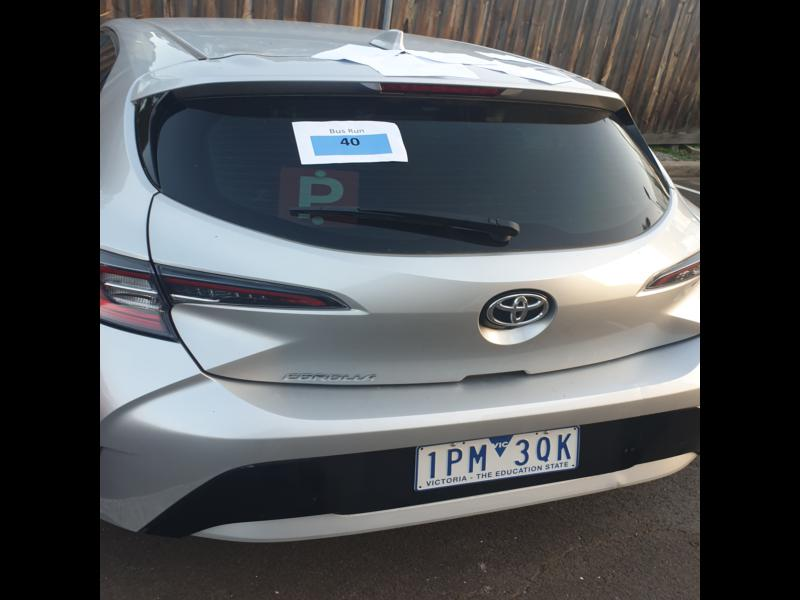BusRun: (310, 134, 393, 155)
PlateNo: (410, 425, 581, 494)
